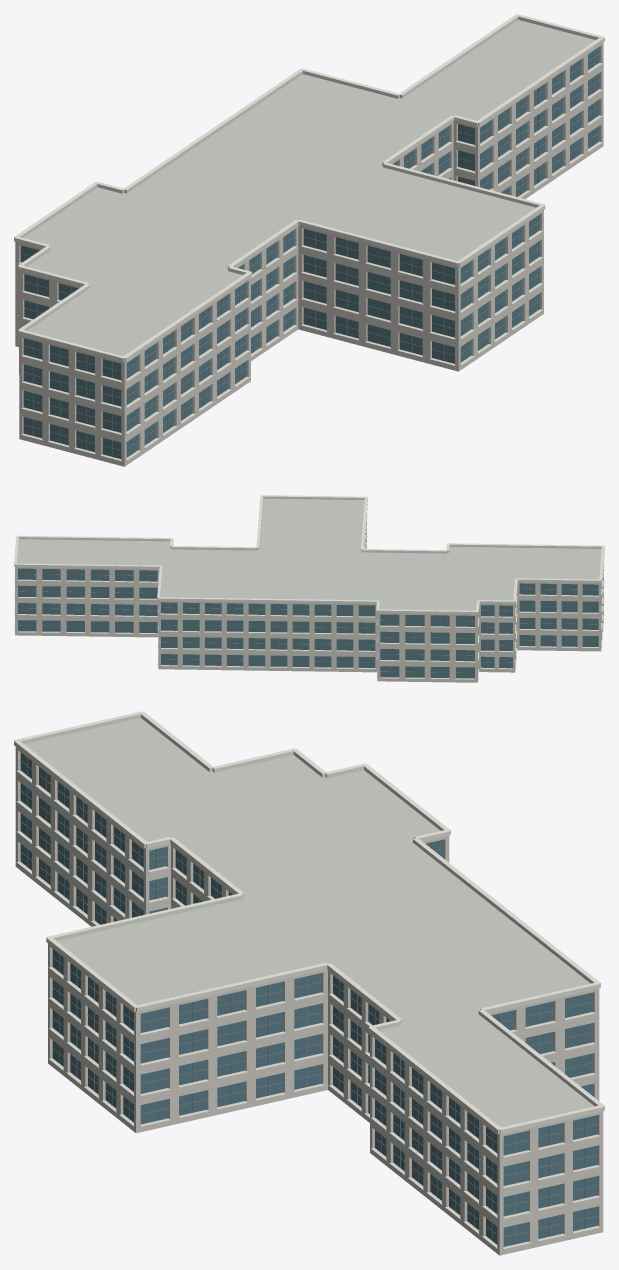
The picture shows the model from 3 angles, top to bottom: view 1: azimuth 30°, elevation 25°; view 2: azimuth 150°, elevation 25°; view 3: azimuth 270°, elevation 25°; orthographic projection. The views are drawn at different scales.
Visible parts, largest first — view 1: roof, wall, glass, trim, metal; view 2: roof, wall, glass, trim, metal; view 3: roof, wall, glass, trim, metal.
Part boxes in pixels (<box>): roof: <box>23,20,595,356</box>; wall: <box>15,42,603,466</box>; glass: <box>20,47,599,458</box>; trim: <box>14,14,604,461</box>; metal: <box>20,51,599,457</box>; roof: <box>17,498,601,610</box>; wall: <box>15,523,603,682</box>; glass: <box>18,568,598,678</box>; trim: <box>14,495,604,679</box>; metal: <box>18,569,598,677</box>; roof: <box>24,718,594,1127</box>; wall: <box>15,747,603,1255</box>; glass: <box>20,752,597,1246</box>; trim: <box>14,711,604,1249</box>; metal: <box>20,757,597,1244</box>.
Bounding box in the file's own units: 92.93 × 13.04 × 55.4.
